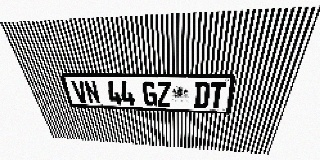4: (105, 81, 123, 105), (119, 81, 135, 105)
D: (194, 82, 210, 108)
G: (142, 81, 157, 106)
N: (83, 80, 101, 104)
T: (208, 82, 227, 109)
V: (71, 80, 89, 104)
Z: (156, 81, 171, 107)
